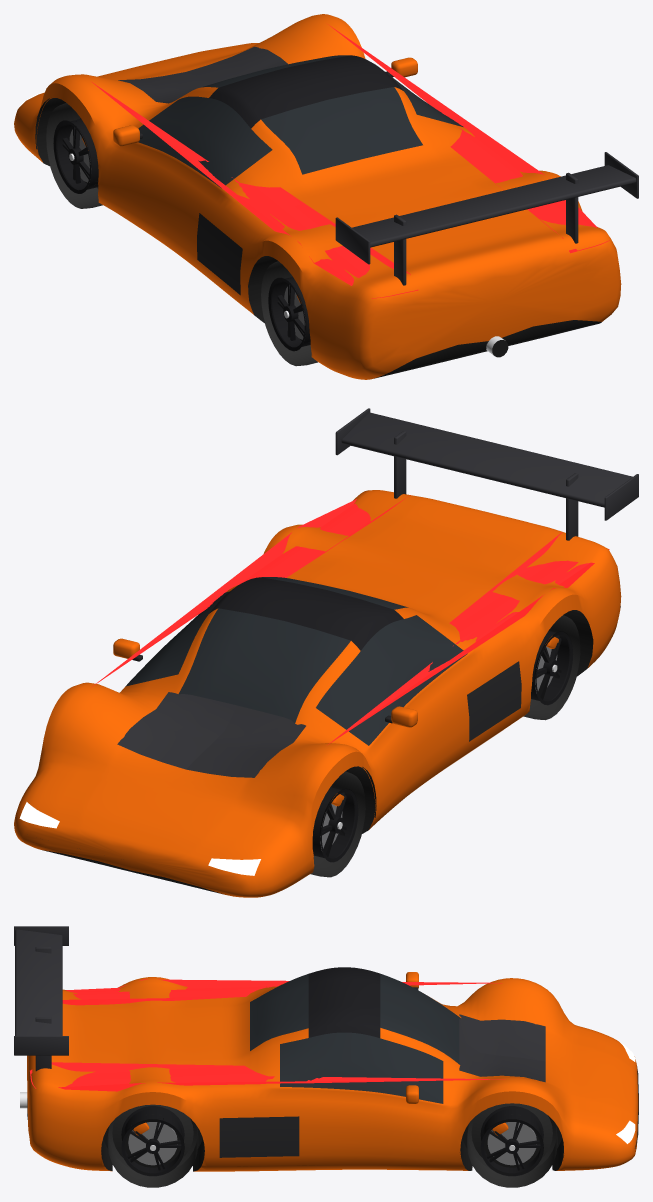
Rendered from xbow_gtx.glb.
3 views of the same model, one above another, from view 1: azimuth 30°, elevation 25°; view 2: azimuth 150°, elevation 25°; view 3: azimuth 270°, elevation 25° (orthographic). The views are drawn at different scales.
Visible parts, largest first — view 1: Body, Wheel_FL, Wheel_RL; view 2: Body, Wheel_FL, Wheel_RL; view 3: Body, Wheel_FR, Wheel_RR.
Part boxes in pixels (box(x1,y1,x2,y2)): Body: box(14, 14, 638, 379); Wheel_FL: box(46, 103, 102, 208); Wheel_RL: box(261, 261, 317, 366); Body: box(14, 408, 638, 897); Wheel_FL: box(310, 771, 365, 877); Wheel_RL: box(523, 615, 580, 720); Body: box(14, 926, 638, 1171); Wheel_FR: box(467, 1103, 557, 1187); Wheel_RR: box(107, 1104, 198, 1187).
Bounding box in the file's own units: 2.18 × 1.27 × 4.7.
